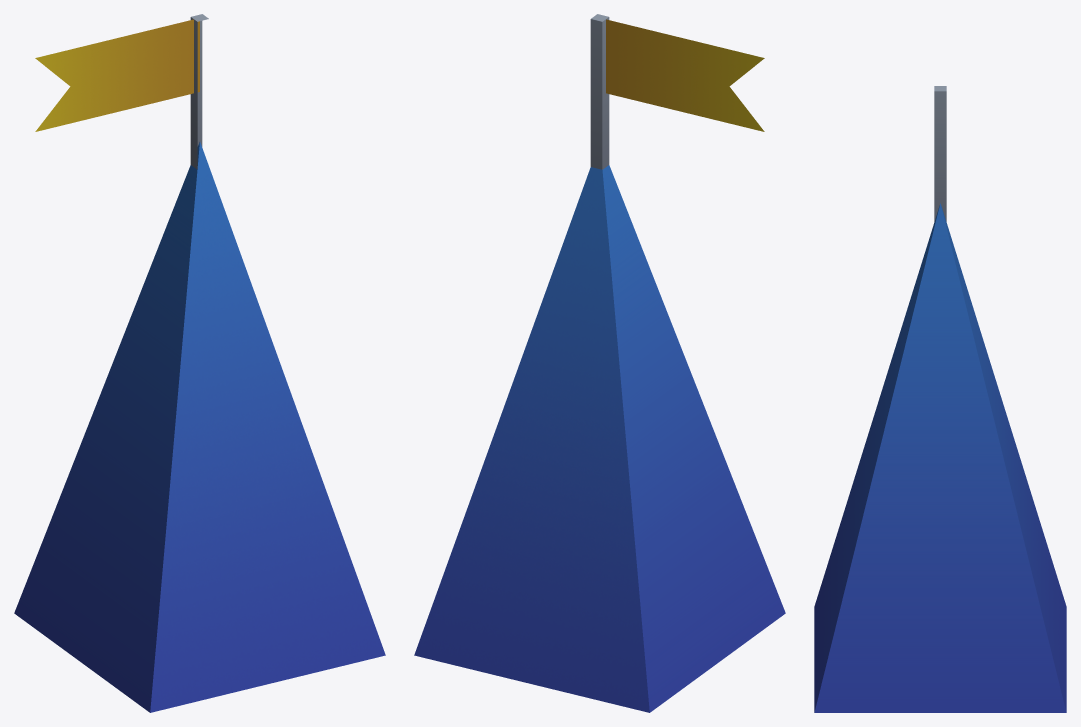
The model's file is Tower.fbx.
The picture shows the model from 3 angles, left to right: view 1: azimuth 30°, elevation 25°; view 2: azimuth 150°, elevation 25°; view 3: azimuth 270°, elevation 25°; orthographic projection. The views are drawn at different scales.
Parts seen in each view (by area): view 1: Tower; view 2: Tower; view 3: Tower.
Part boxes in pixels (x1,y1,x2,y2): Tower: [14, 14, 385, 712]; Tower: [414, 14, 785, 712]; Tower: [814, 86, 1066, 712].
Bounding box in the file's own units: 1 × 2.5 × 1.2.
